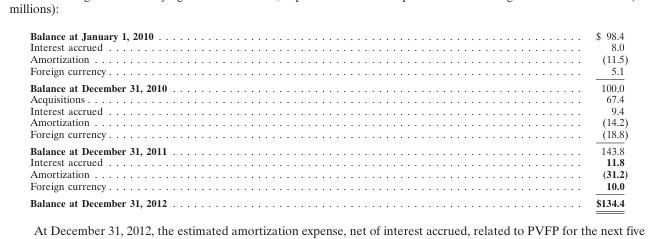table: (29, 28, 627, 207)
table column: (29, 28, 380, 207), (380, 28, 627, 207)
table row: (29, 64, 627, 78), (29, 78, 627, 92), (29, 127, 627, 141), (29, 141, 627, 155), (29, 179, 627, 193), (29, 193, 627, 207), (29, 28, 627, 41), (29, 52, 627, 64), (29, 92, 627, 104), (29, 115, 627, 127), (29, 155, 627, 167), (29, 167, 627, 179), (29, 41, 627, 52), (29, 104, 627, 115)
